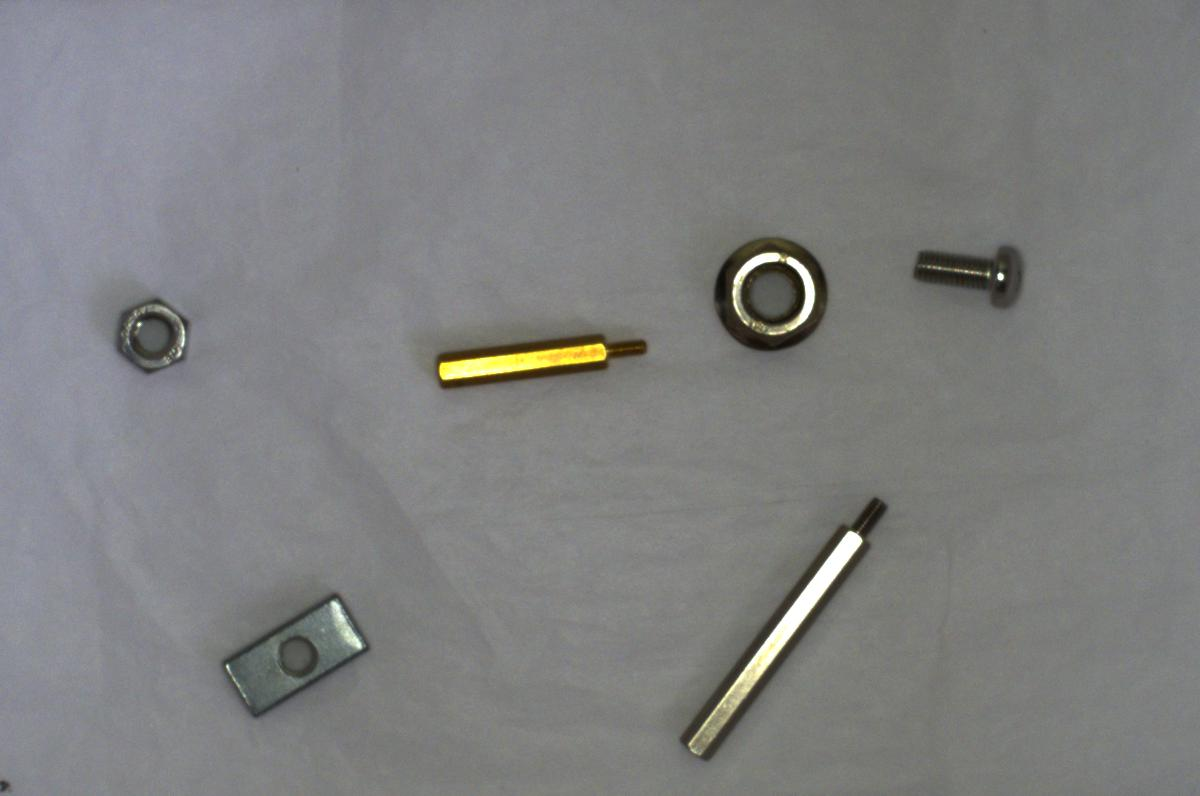Flange nut: (702, 227, 834, 360)
Hexagon nut: (106, 288, 202, 382)
Hexagon pillar: (425, 320, 651, 389)
Hexagonal steel column: (666, 490, 891, 758)
Rectangular nut: (224, 589, 377, 722)
Round head screw: (904, 229, 1037, 316)
